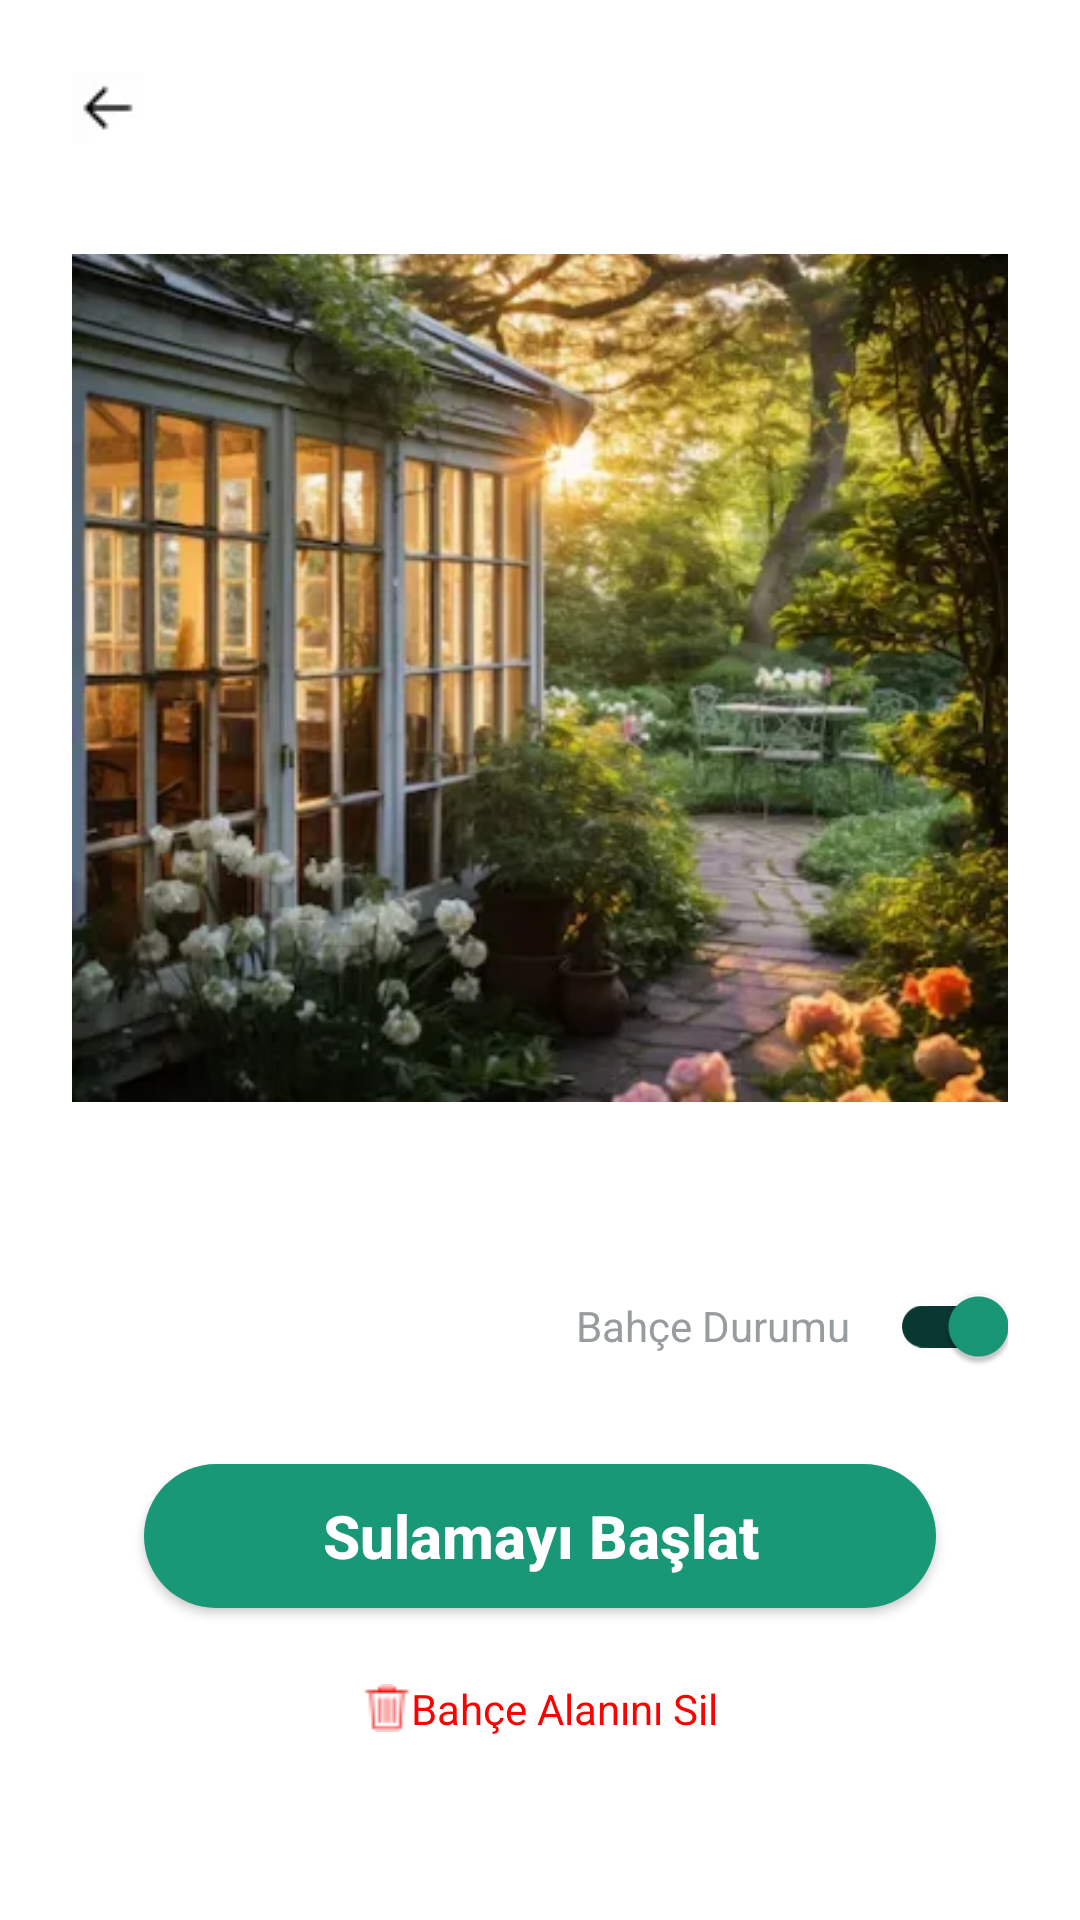

Named icons in this screenshot (1080x1920) and their bounding boxes, [x1, y1, x2, y2]:
left: [83, 86, 133, 130]
